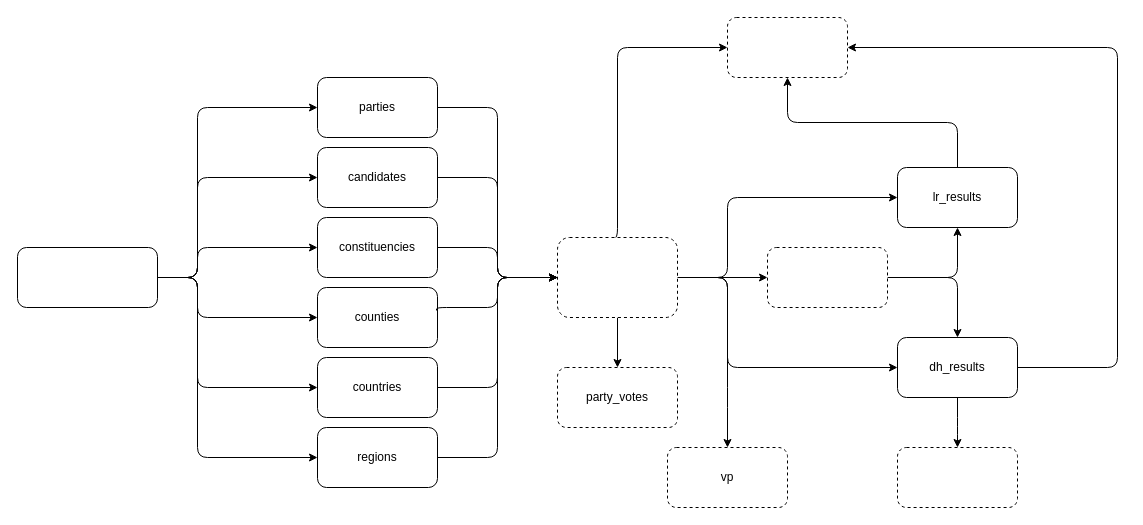
Image size: 1143x525. Some labels were removed from this diagram. Each missing label, with the centre of its shape:
"dh_quot" belongs at (x=957, y=477).
"election_results_raw" belongs at (x=87, y=277).
"loc_seats" belongs at (x=827, y=277).
"location_vote_data" belongs at (x=617, y=277).
"party_seats" belongs at (x=787, y=47).
